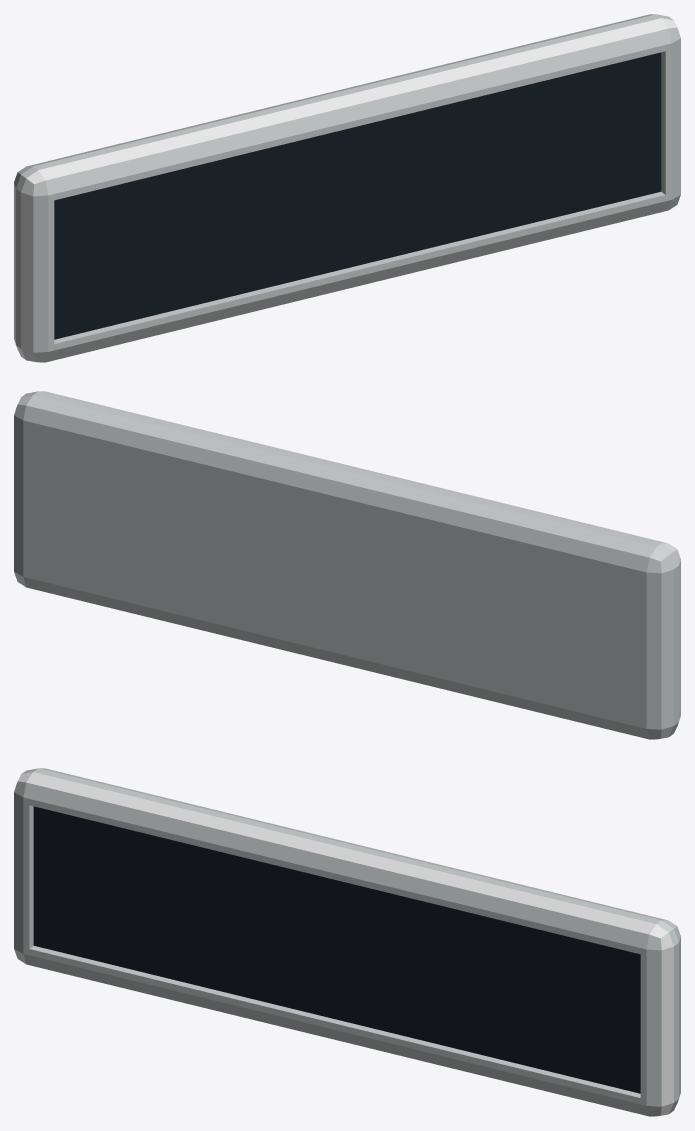
File: Wall-Decoration-2.fbx
3 renders of one model, top to bottom at view 1: azimuth 30°, elevation 25°; view 2: azimuth 150°, elevation 25°; view 3: azimuth 330°, elevation 25°, orthographic.
Visible parts, largest first — view 1: Wall-Decoration-2; view 2: Wall-Decoration-2; view 3: Wall-Decoration-2.
Boxes of the visible parts, box(x1,y1,x2,y2) form: Wall-Decoration-2: box(14, 14, 680, 362); Wall-Decoration-2: box(14, 391, 680, 739); Wall-Decoration-2: box(14, 768, 680, 1116).
Size of the model in its own units: 2.72 by 0.7619 by 0.18.
